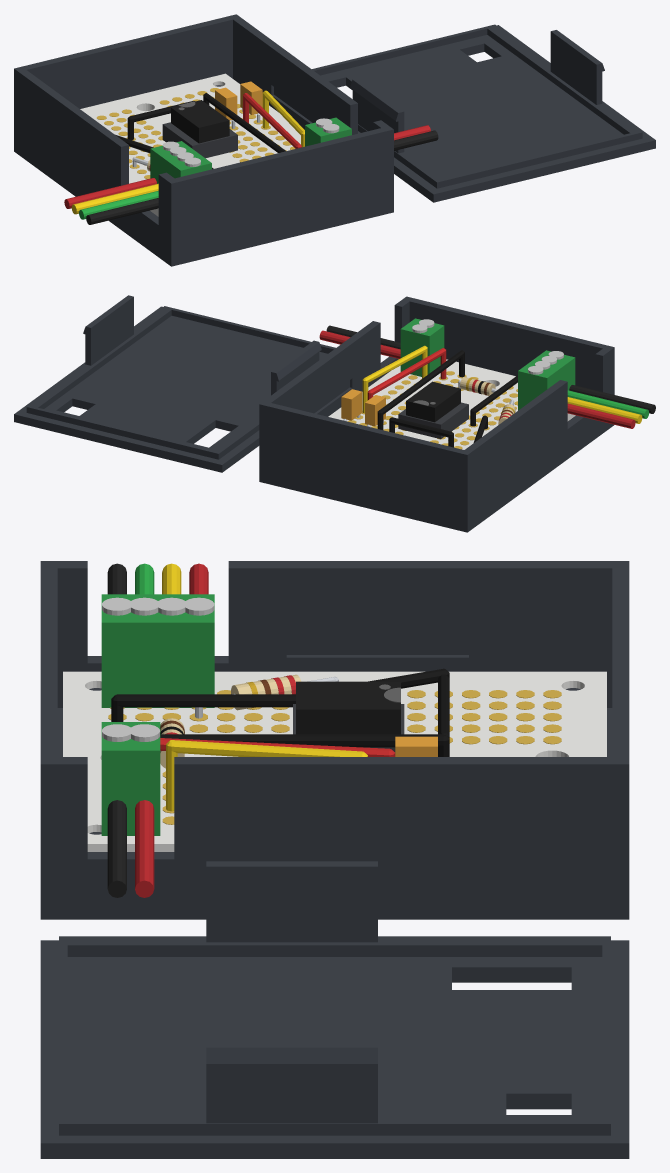
File: lid-off.glb
The picture shows the model from 3 angles, top to bottom: view 1: azimuth 30°, elevation 25°; view 2: azimuth 150°, elevation 25°; view 3: azimuth 270°, elevation 25°; orthographic projection. The views are drawn at different scales.
Visible parts, largest first — view 1: ATtiny85 speed limiter, lid off; view 2: ATtiny85 speed limiter, lid off; view 3: ATtiny85 speed limiter, lid off.
Boxes of the visible parts, x1,y1,x2,y2 form: ATtiny85 speed limiter, lid off: [14, 14, 655, 266]; ATtiny85 speed limiter, lid off: [14, 295, 655, 532]; ATtiny85 speed limiter, lid off: [40, 561, 629, 1158].
Bounding box in the file's own units: 0.1103 × 0.016 × 0.055.
